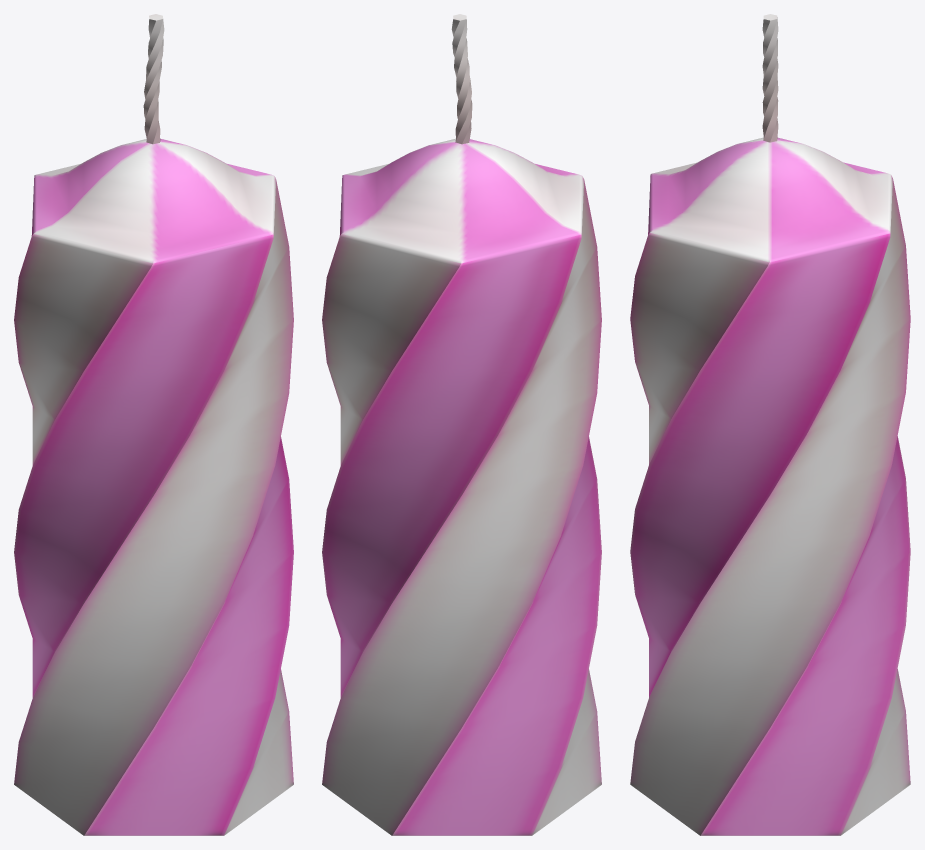
File: Candle.fbx
3 renders of one model, left to right at view 1: azimuth 30°, elevation 25°; view 2: azimuth 150°, elevation 25°; view 3: azimuth 270°, elevation 25°, orthographic.
Visible parts, largest first — view 1: polySurface374; view 2: polySurface374; view 3: polySurface374.
Part boxes in pixels (box(x1,y1,x2,y2)): polySurface374: box(14, 14, 293, 835); polySurface374: box(322, 14, 601, 835); polySurface374: box(630, 14, 910, 835).
Size of the model in its own units: 0.7029 by 2.12 by 0.7029.
